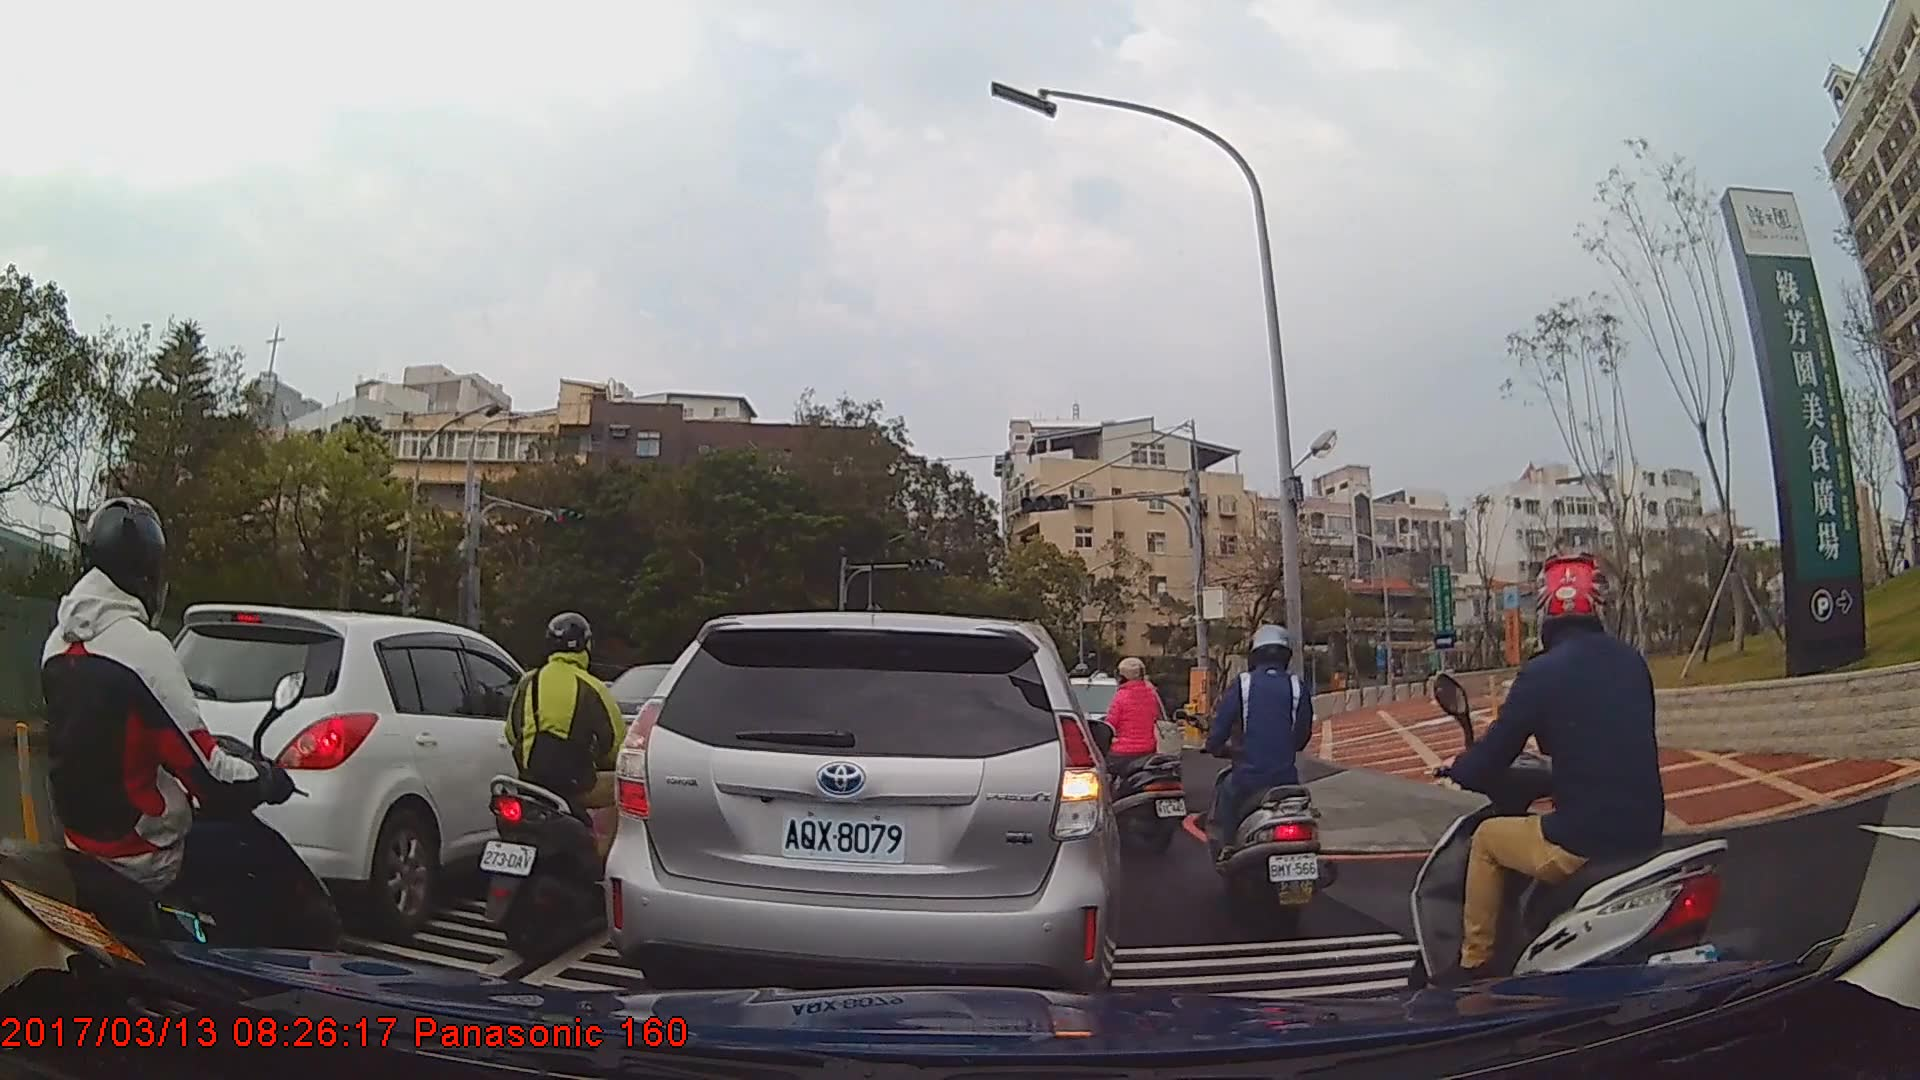rider: (1, 492, 351, 1056), (1403, 554, 1727, 1041), (483, 606, 663, 958), (1204, 616, 1329, 941), (1076, 654, 1185, 861)
vehicle: (602, 610, 1122, 1004), (107, 600, 593, 943)
